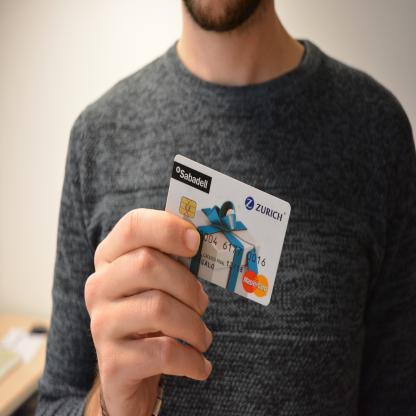tarjeta: (160, 152, 292, 306)
